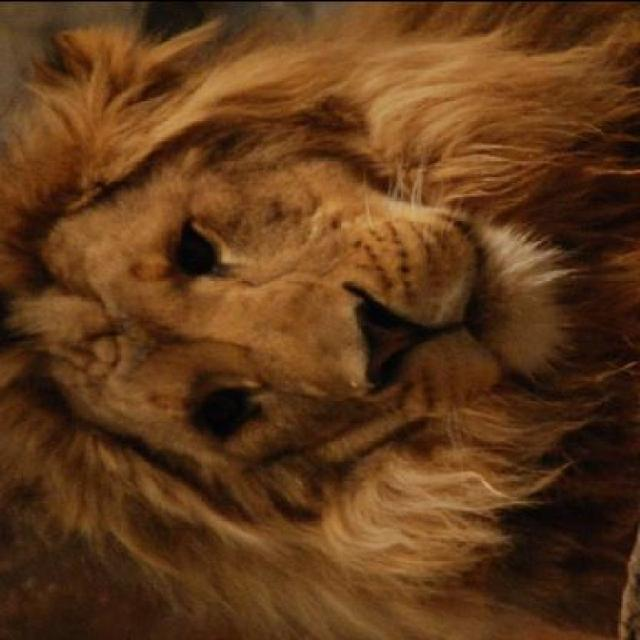Lion: (6, 23, 639, 628)
